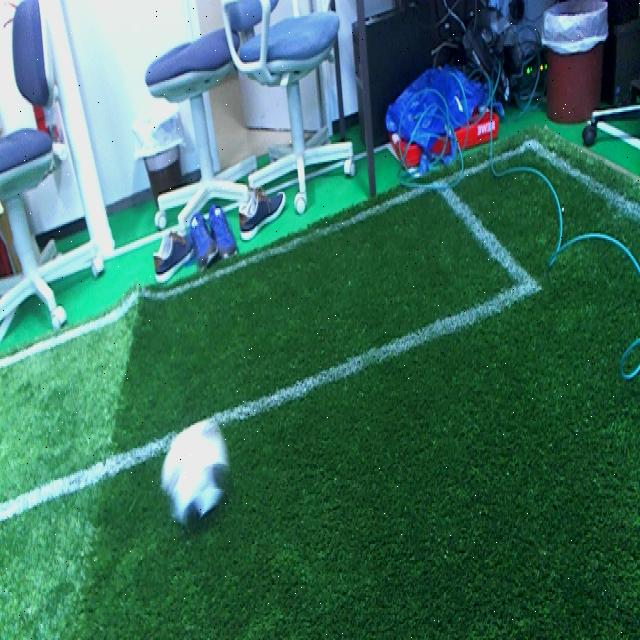ball: (158, 418, 232, 528)
goalpost: (38, 3, 119, 268)
